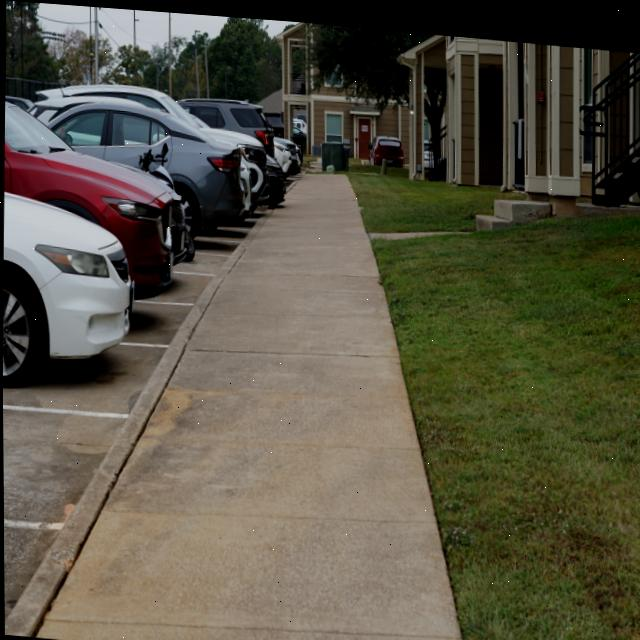Automobile: (3, 109, 182, 294), (46, 93, 247, 234), (2, 191, 131, 357), (36, 82, 197, 122), (208, 124, 273, 212), (177, 95, 277, 151), (149, 88, 205, 125), (201, 124, 264, 148), (368, 129, 404, 160), (2, 330, 26, 375), (265, 150, 285, 199), (274, 139, 291, 171)
Obstacle: (321, 136, 348, 165)
Road: (2, 240, 236, 411), (2, 410, 123, 520), (3, 529, 51, 620)
Sidewalk: (4, 169, 462, 640)
